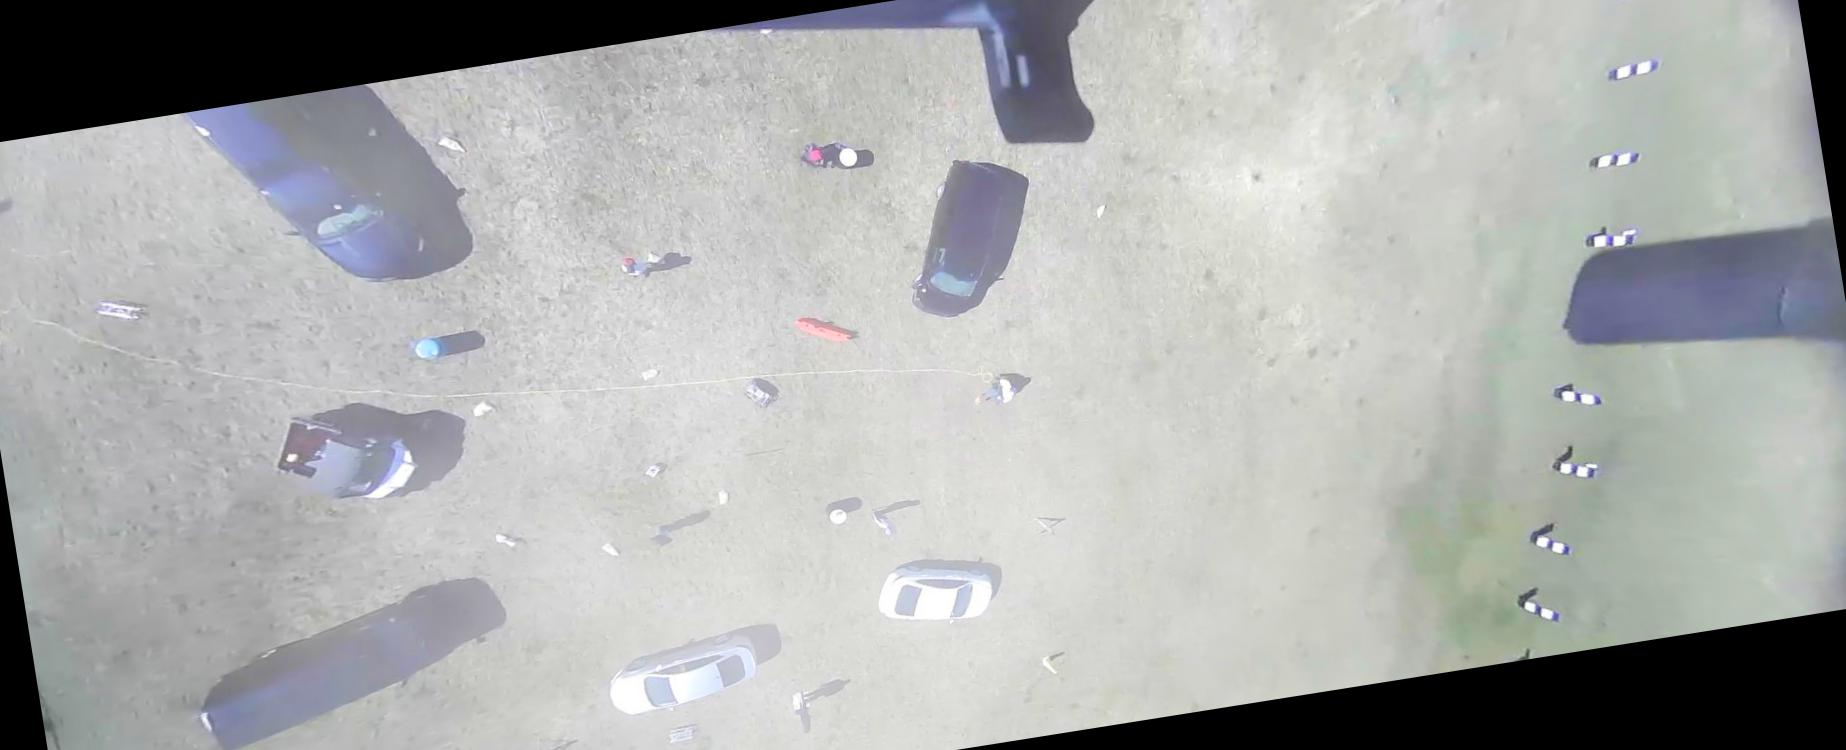vehicle: (177, 78, 434, 311), (187, 608, 444, 749), (890, 151, 1029, 323), (264, 396, 434, 516), (603, 629, 764, 721), (871, 552, 998, 636)
